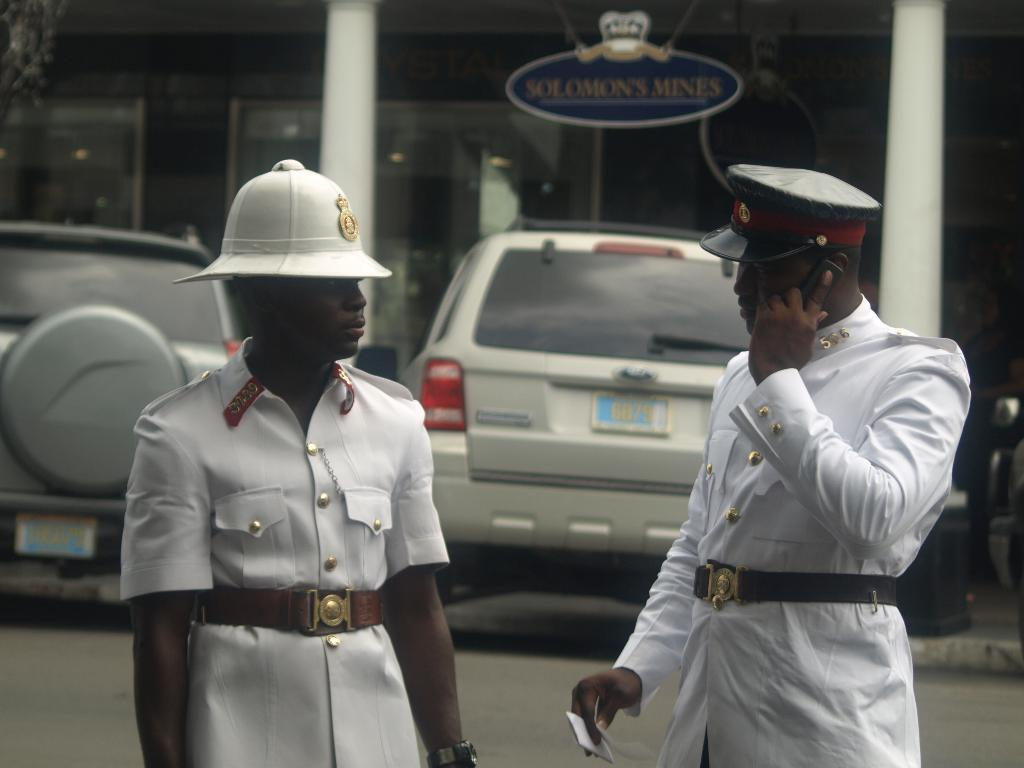Hat: (170, 160, 390, 282), (698, 166, 878, 266)
